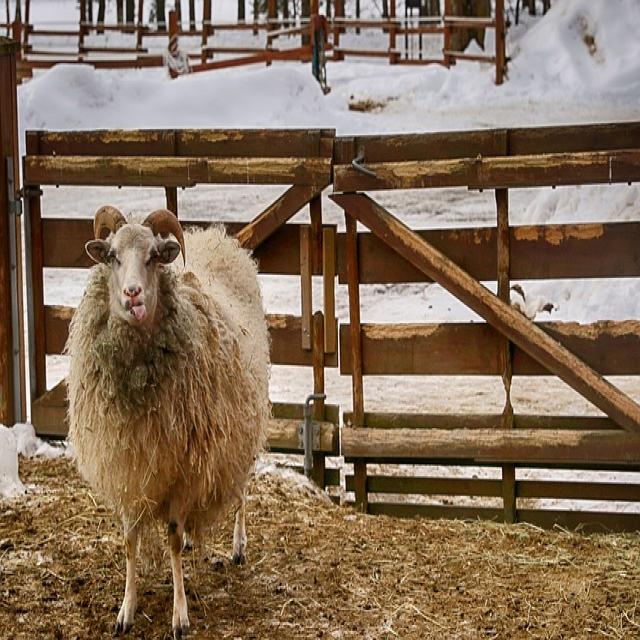sheep: (63, 203, 272, 638)
